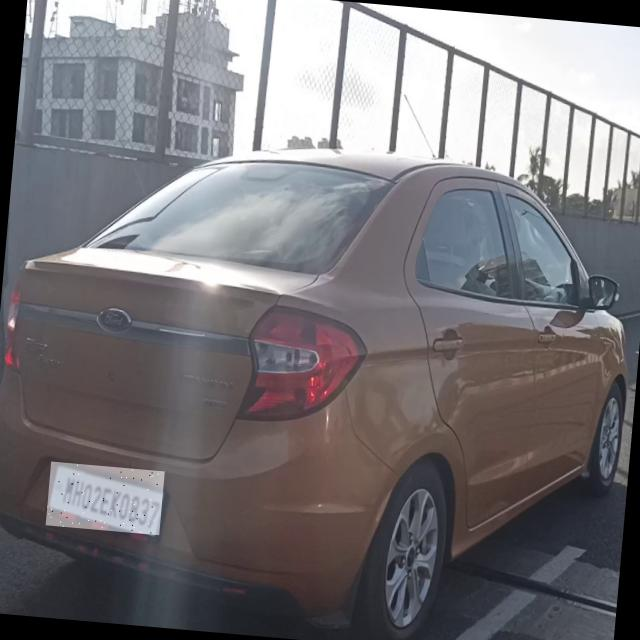Plate: (46, 462, 165, 536)
